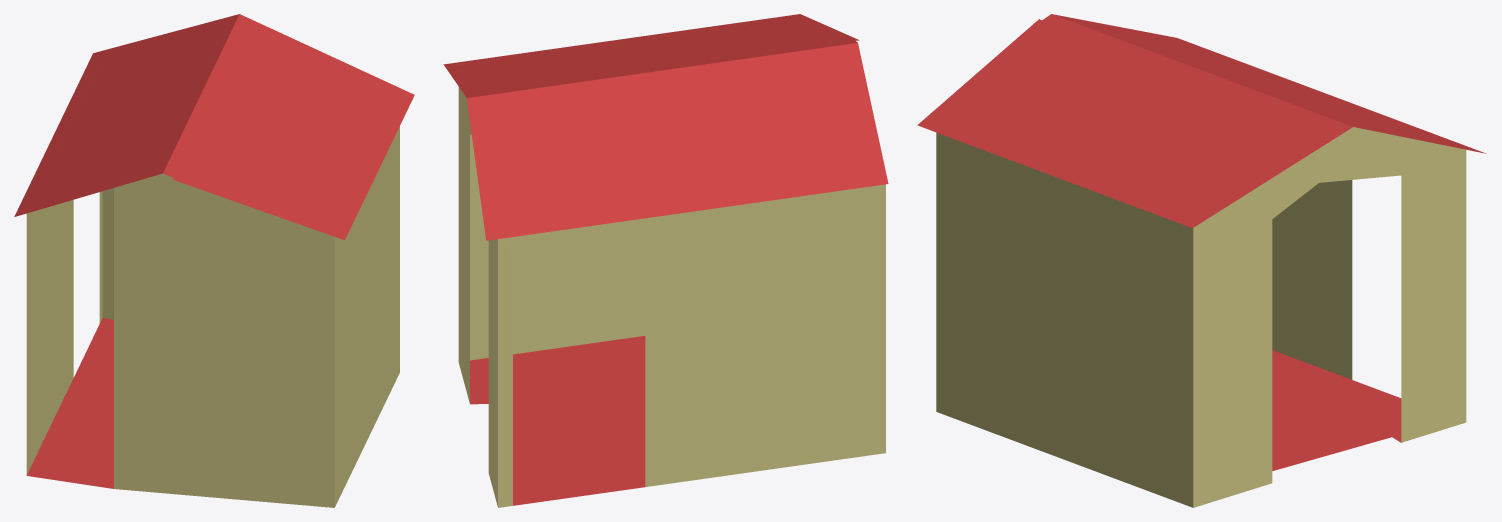
3 views of the same model, side by side, from view 1: azimuth 30°, elevation 25°; view 2: azimuth 150°, elevation 25°; view 3: azimuth 270°, elevation 25° (orthographic). The views are drawn at different scales.
Size of the model in its own units: 9.05 by 10.46 by 6.84.
